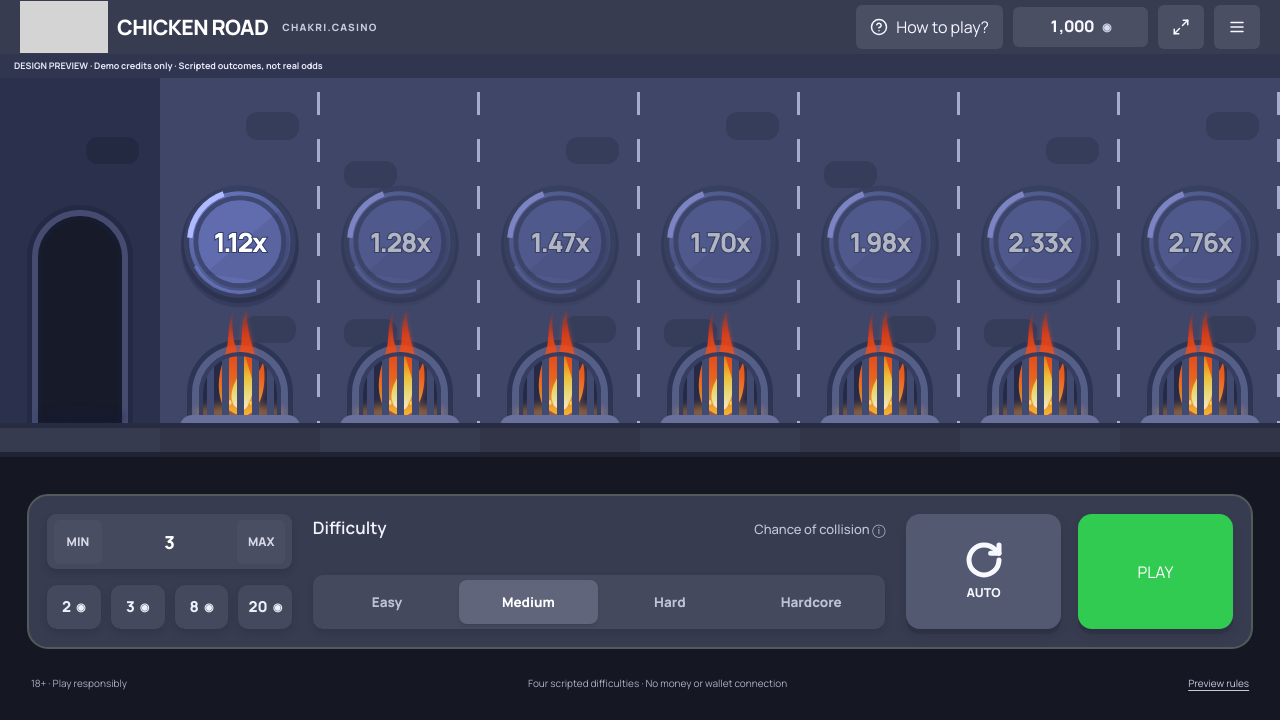
Test: ambient flames originate inside grates, and the collision grate resets after its finite burst
Later steps or results of the test are not shown.
Click the button "Play" at [1155, 572], box [1078, 514, 1233, 629]
Wait 480 ms
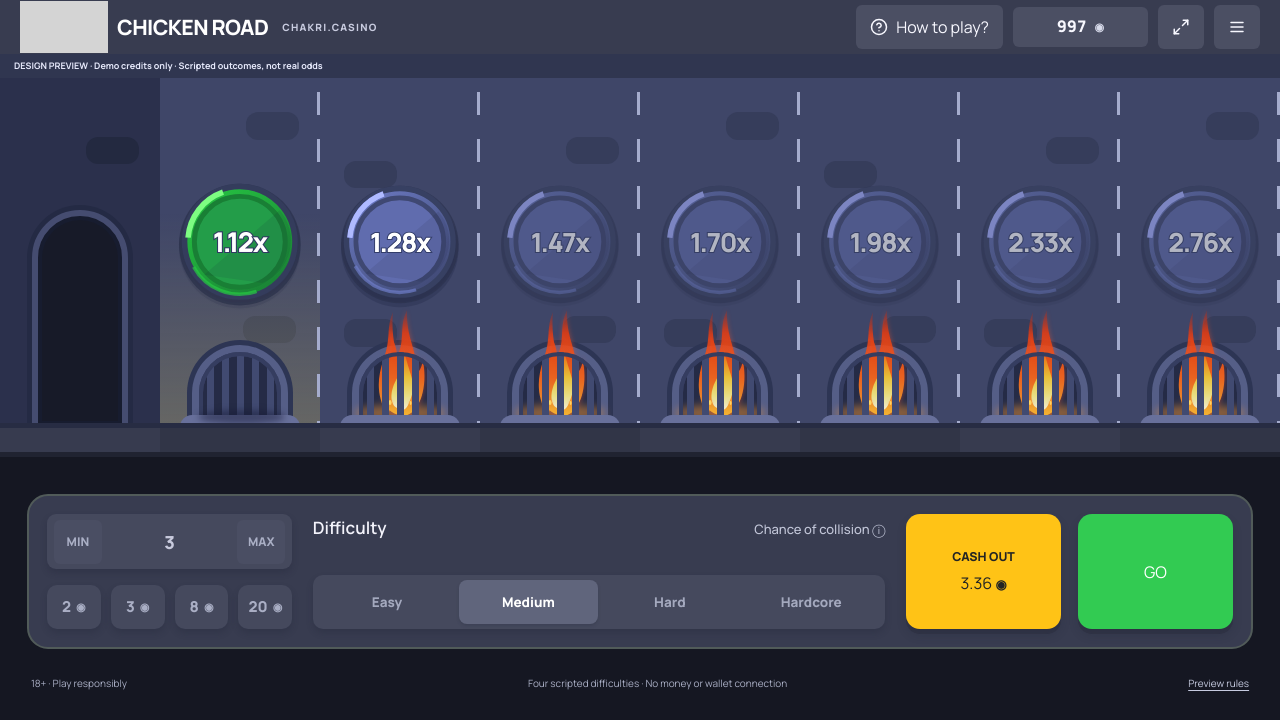
Click the button with test id "road-go" at [1155, 572], box [1078, 514, 1233, 629]
Wait 480 ms
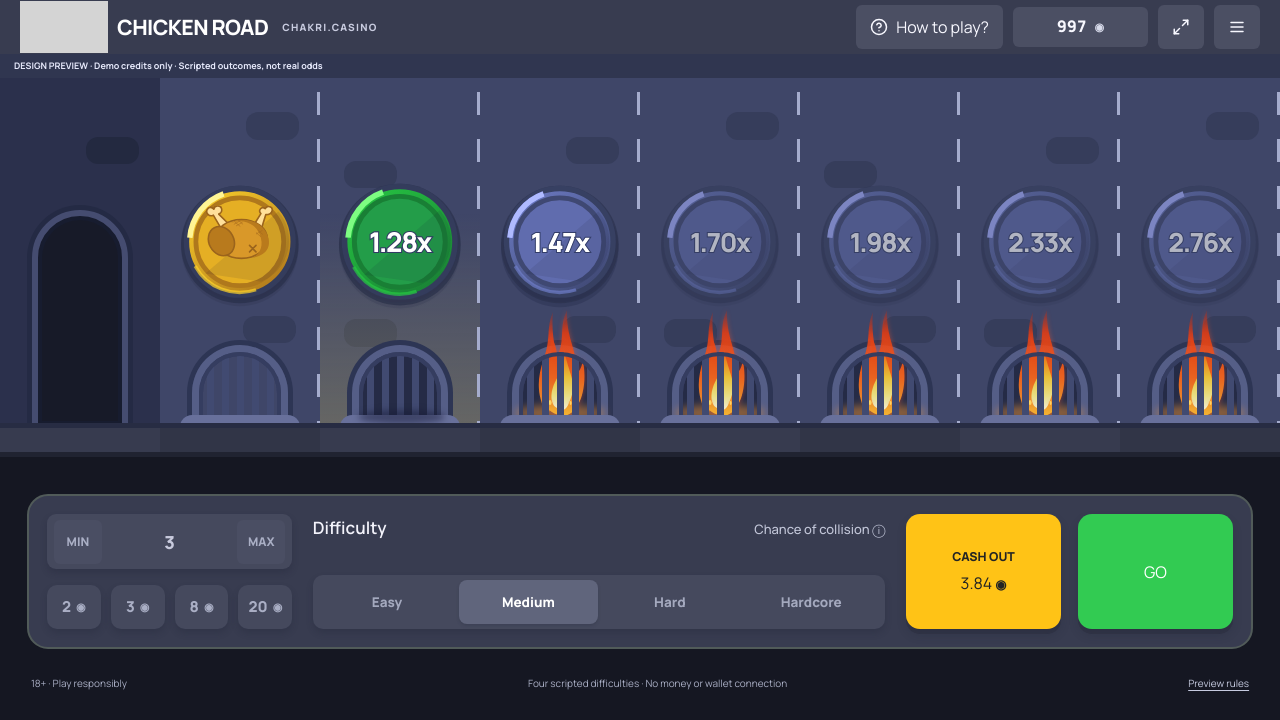
Click the button with test id "road-go" at [1155, 572], box [1078, 514, 1233, 629]
Wait 480 ms
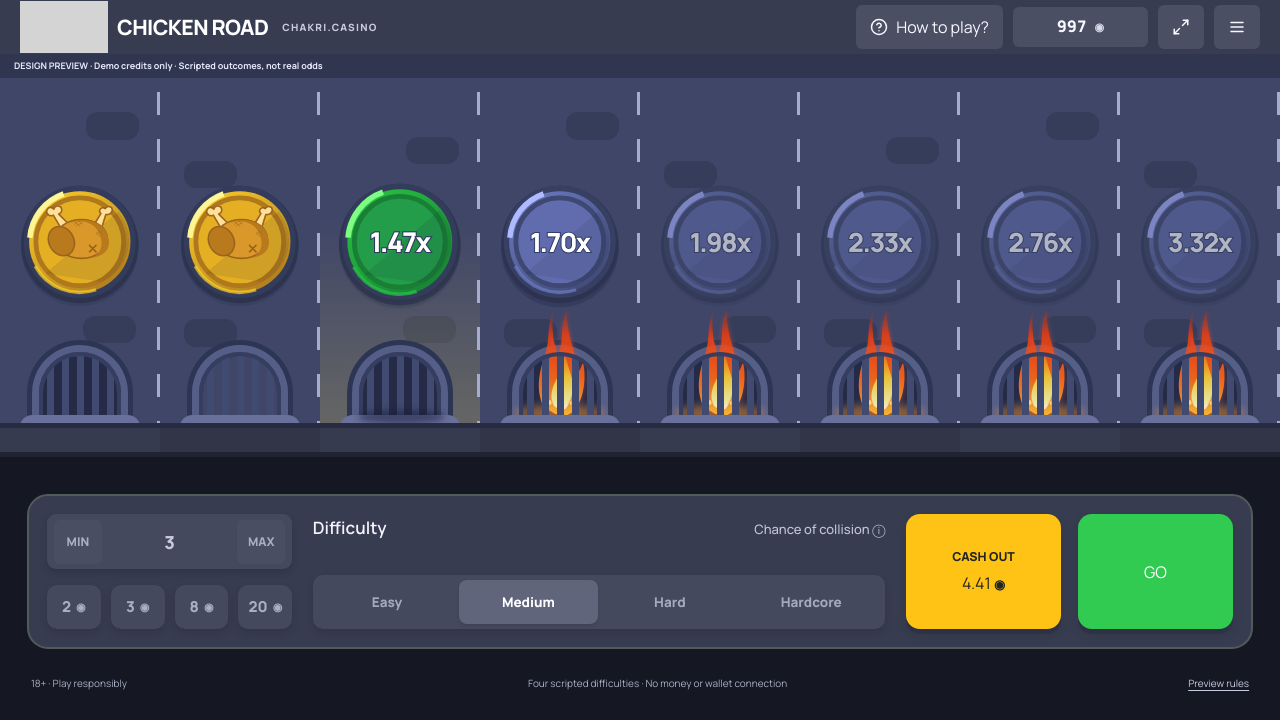
Click the button with test id "road-go" at [1155, 572], box [1078, 514, 1233, 629]
Wait 480 ms
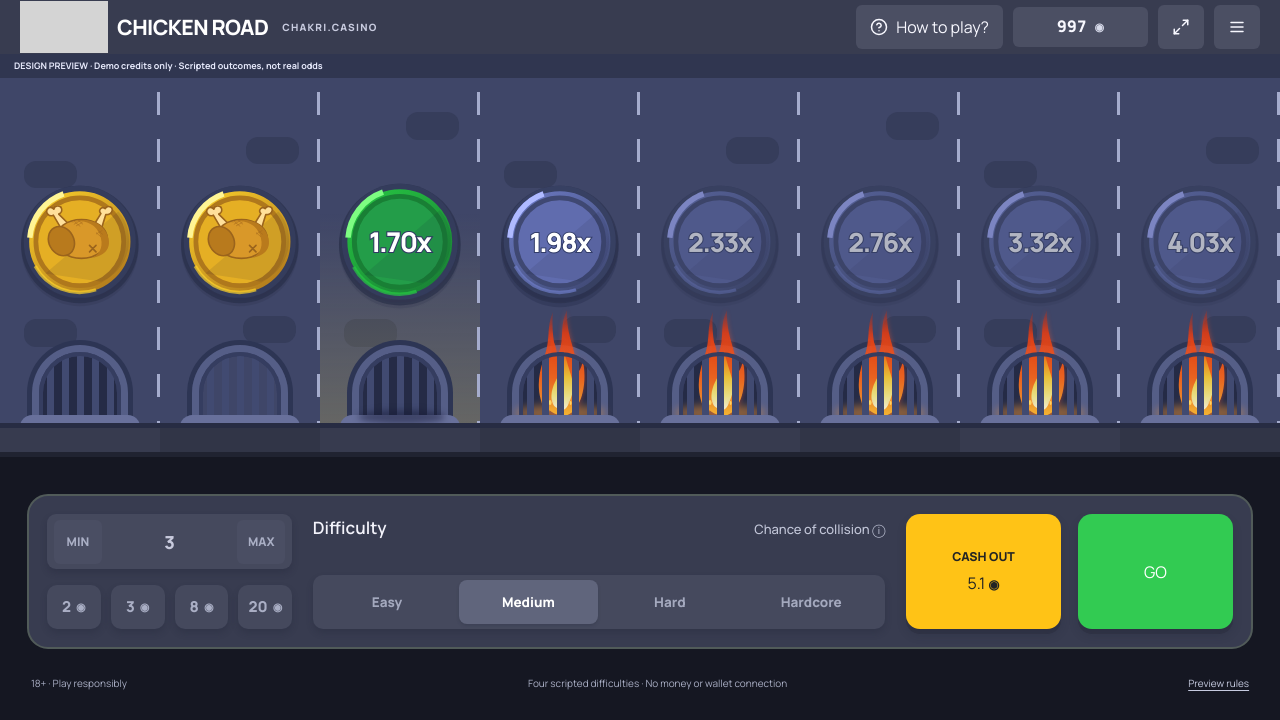
Click the button with test id "road-go" at [1155, 572], box [1078, 514, 1233, 629]
Wait 480 ms
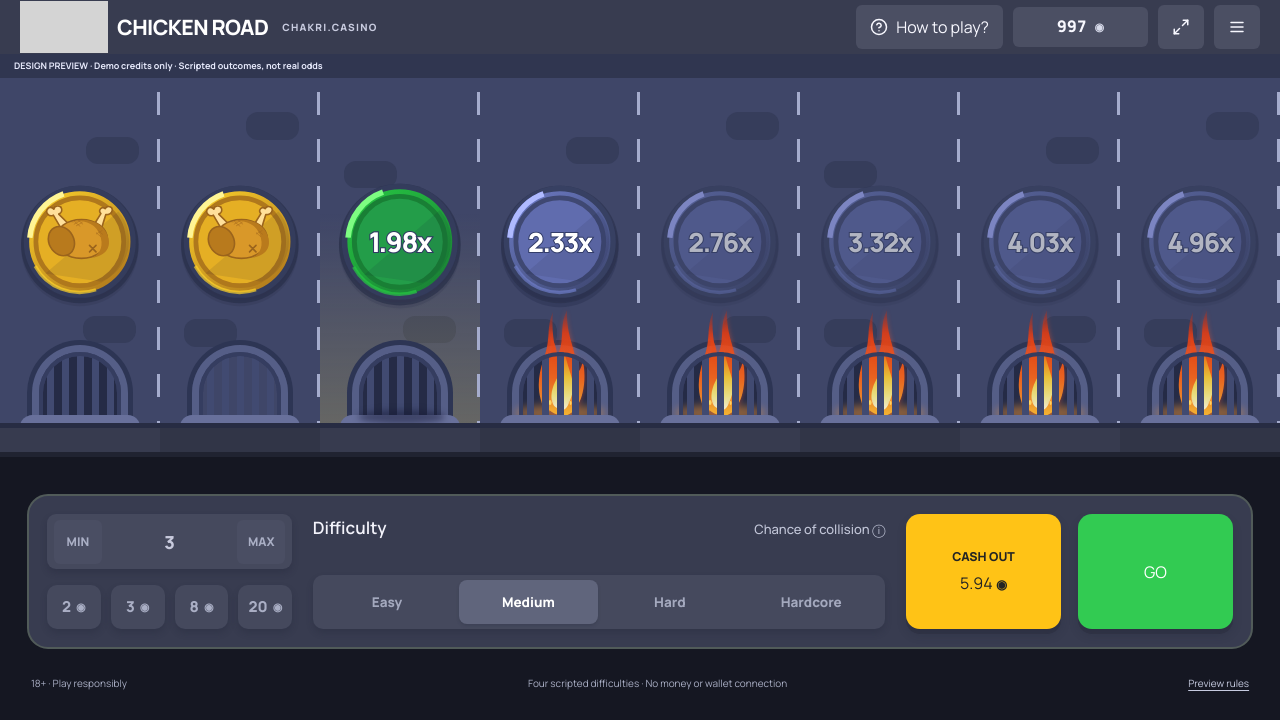
Click the button with test id "road-go" at [1155, 572], box [1078, 514, 1233, 629]
Wait 480 ms
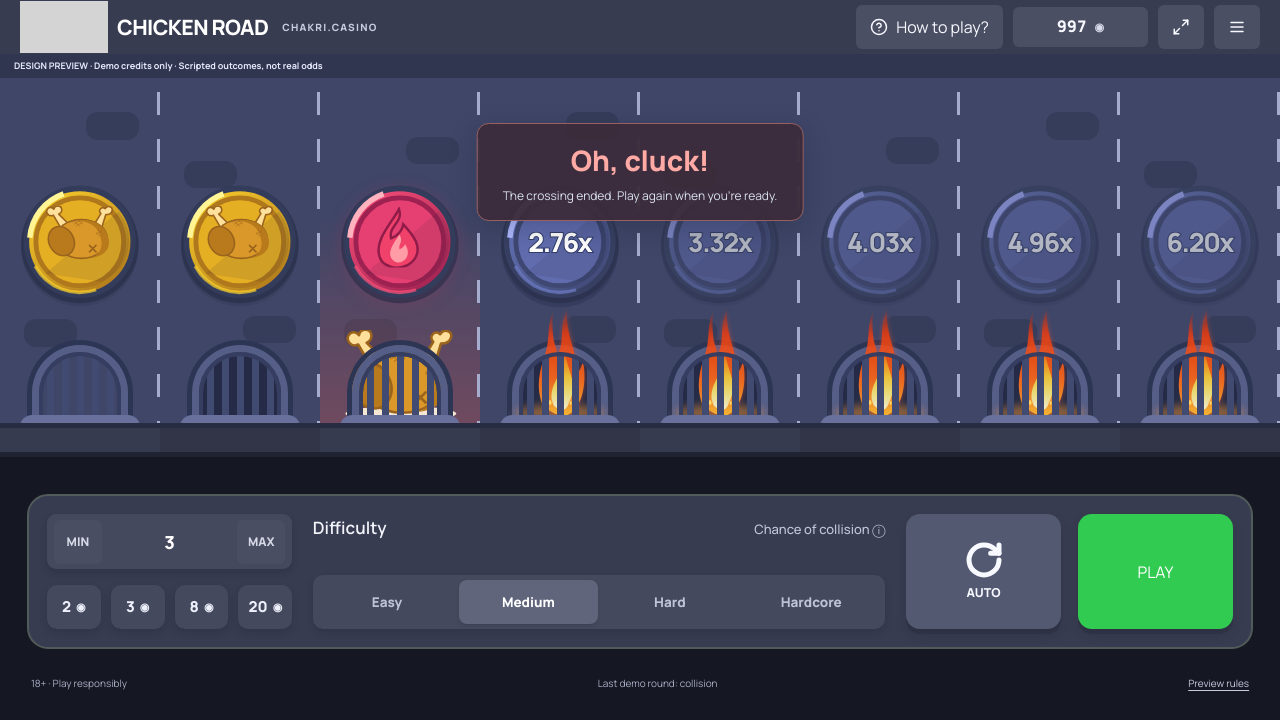
Check: the 2nd element with class "is-firing" is shown, box [352, 345, 448, 423]
